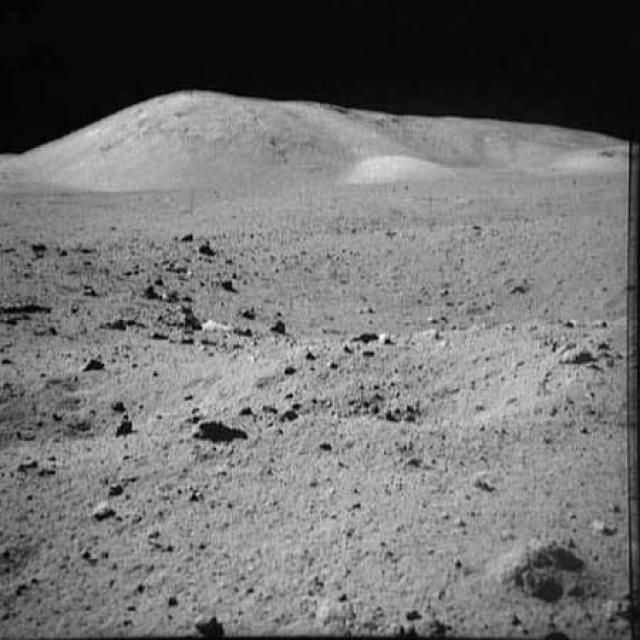crater: (289, 321, 565, 437), (0, 351, 195, 445)
rock: (485, 521, 583, 610), (182, 603, 223, 638), (203, 314, 244, 348), (89, 494, 122, 522)
